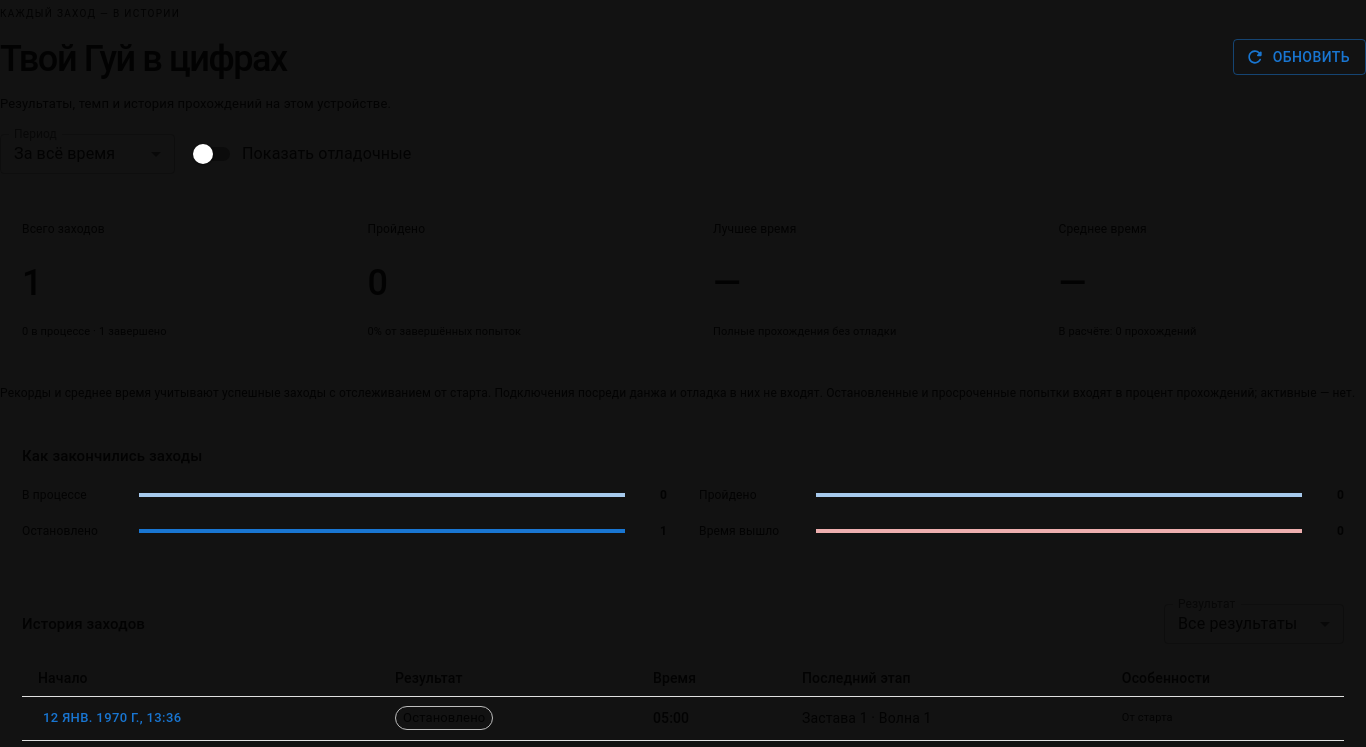
экран статистики › открывает сохранённый журнал и закрывает подключения
The image size is (1366, 747).
Step 1. Click the button with aria-label "Подробнее о заходе" → (112, 718), box [38,703,186,734]
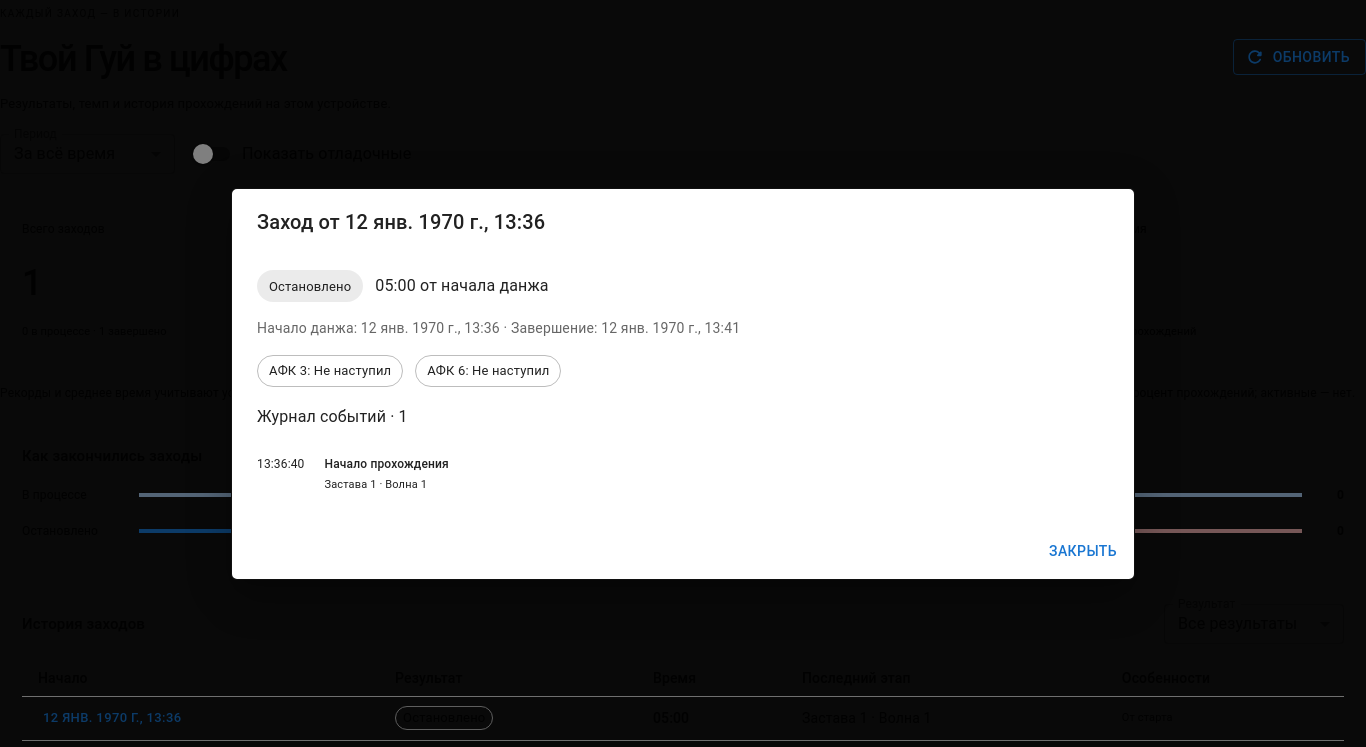
Now the text "Начало прохождения" is shown, box [324,456,449,470]
Now the text "АФК 3: Не наступил" is shown, box [269,363,391,378]
